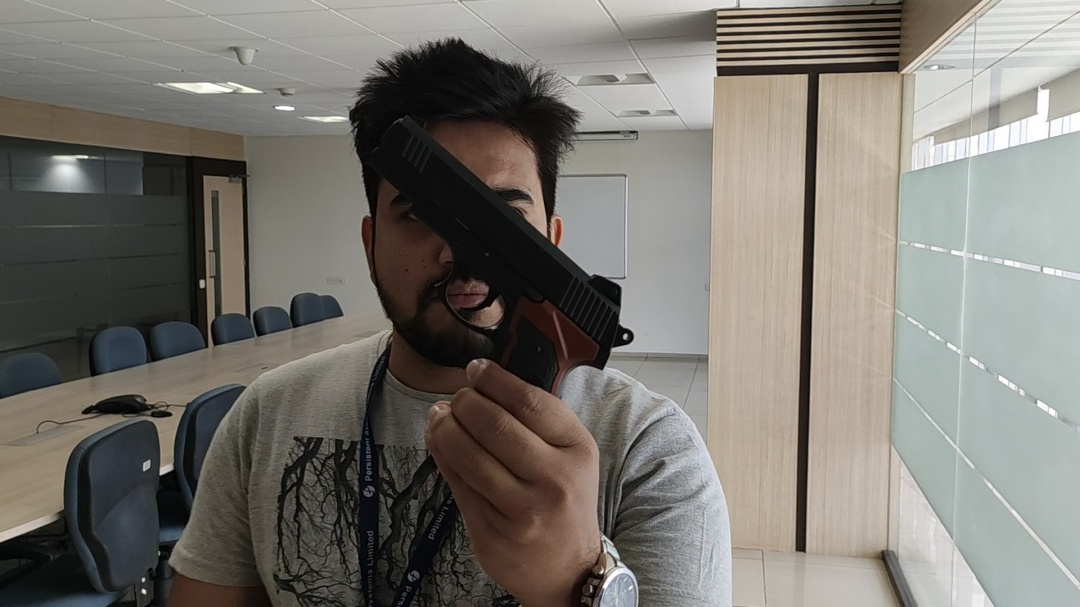gun: (387, 132, 637, 396)
